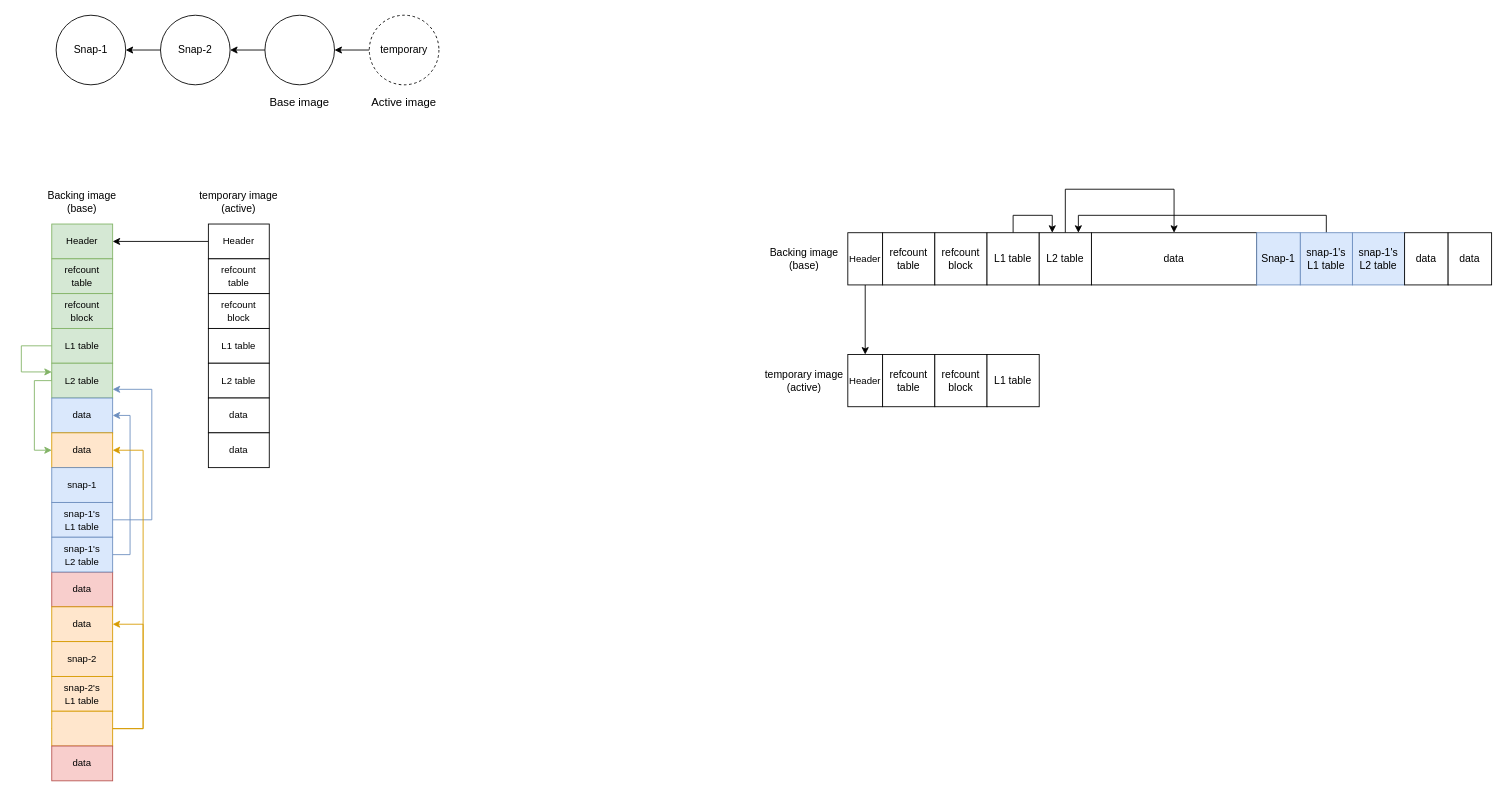
Image size: 1507x796. Some labels were removed from this diagram. Here are the shapes that lost their labels. From the top down, the box of each, then its label:
(264, 14, 335, 85): Snap-3
(51, 710, 113, 746): snap-2's L2 table
